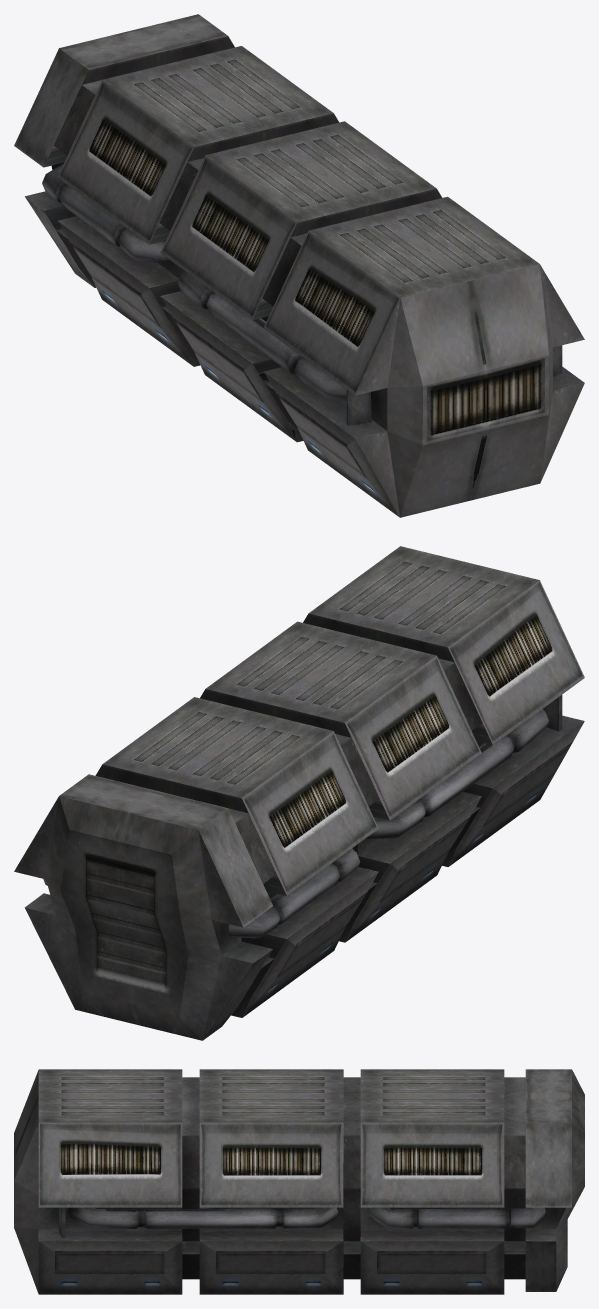
File: cargo_debris_crate_s01_l1.fbx
3 views of the same model, one above another, from view 1: azimuth 30°, elevation 25°; view 2: azimuth 150°, elevation 25°; view 3: azimuth 270°, elevation 25° (orthographic). The views are drawn at different scales.
Visible parts, largest first — view 1: mesh_node; view 2: mesh_node; view 3: mesh_node.
Boxes of the visible parts, x1=… form: mesh_node: x1=14, y1=14, x2=584, y2=517; mesh_node: x1=14, y1=546, x2=584, y2=1040; mesh_node: x1=14, y1=1069, x2=584, y2=1294.
Bounding box in the file's own units: 7.21 × 6.59 × 19.86.
1 material, 1 textured.
